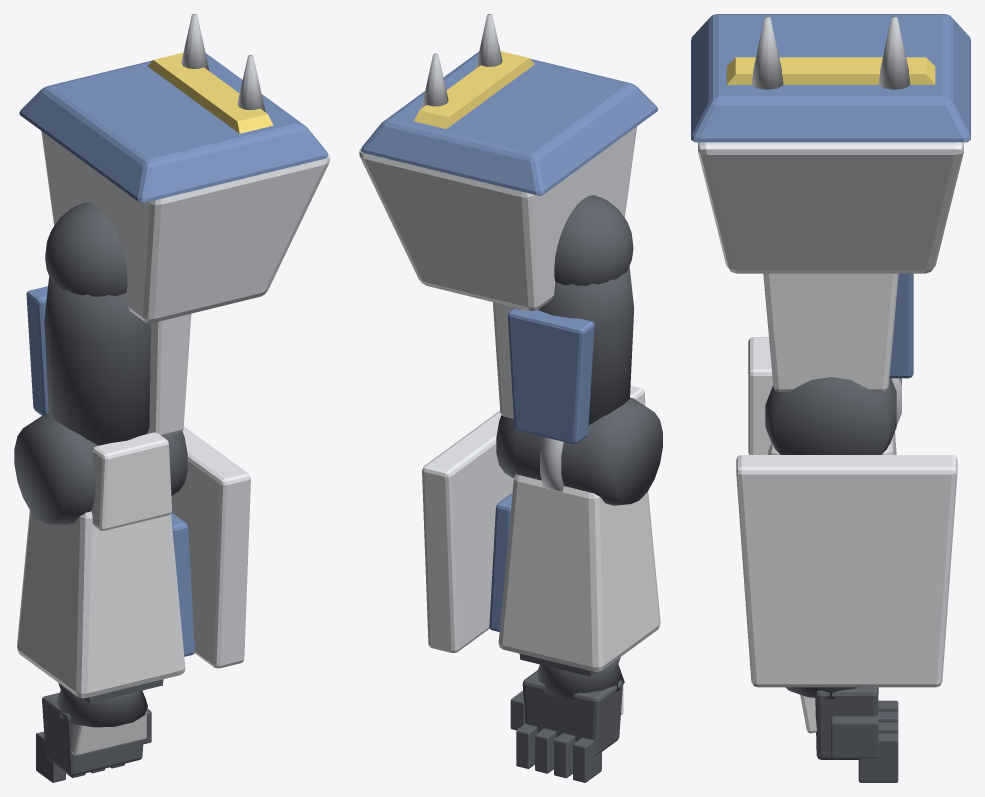
The model's file is arm_heavy_r.glb.
3 renders of one model, left to right at view 1: azimuth 30°, elevation 25°; view 2: azimuth 150°, elevation 25°; view 3: azimuth 270°, elevation 25°, orthographic. The views are drawn at different scales.
Parts seen in each view (by area): view 1: forearm, pauldron, pauldron_top, upper_arm, forearm_shield, elbow, elbow_guard, shoulder_joint, upper_arm_plate, pauldron_slot, palm, wrist (+6 smaller); view 2: forearm, pauldron, pauldron_top, forearm_shield, upper_arm_front, elbow, upper_arm, shoulder_joint, palm, pauldron_slot, wrist, forearm_outer (+8 smaller); view 3: forearm_shield, pauldron, pauldron_top, upper_arm_plate, elbow, pauldron_slot, elbow_guard, palm, upper_arm_front, thumb, finger.003, spike (+1 smaller).
Part boxes in pixels (x1,y1,x2,y2): forearm: (17, 510, 185, 698); pauldron: (41, 131, 330, 322); pauldron_top: (19, 53, 328, 202); upper_arm: (44, 276, 150, 445); forearm_shield: (171, 426, 250, 668); elbow: (14, 413, 187, 525); elbow_guard: (91, 432, 172, 530); shoulder_joint: (45, 202, 127, 296); upper_arm_plate: (149, 314, 191, 436); pauldron_slot: (147, 52, 273, 133); palm: (42, 692, 146, 775); wrist: (56, 683, 147, 727); forearm: (498, 474, 660, 671); pauldron: (359, 126, 636, 310); pauldron_top: (361, 51, 657, 195); forearm_shield: (422, 410, 513, 652); upper_arm_front: (507, 309, 594, 444); elbow: (496, 397, 662, 505); upper_arm: (538, 266, 634, 424); shoulder_joint: (554, 195, 633, 285); palm: (522, 670, 622, 755); pauldron_slot: (414, 51, 534, 128); wrist: (536, 657, 624, 699); forearm_outer: (489, 493, 512, 631); forearm_shield: (736, 455, 957, 687); pauldron: (698, 142, 963, 273); pauldron_top: (691, 14, 970, 142); upper_arm_plate: (763, 273, 898, 392); elbow: (765, 377, 896, 454); pauldron_slot: (726, 57, 935, 84); elbow_guard: (748, 337, 773, 454); palm: (815, 687, 878, 759); upper_arm_front: (889, 273, 913, 378); thumb: (831, 715, 878, 758); finger.003: (858, 733, 898, 782); spike: (751, 16, 783, 89).
Bounding box in the file's own units: 3.29 × 9.61 × 3.
